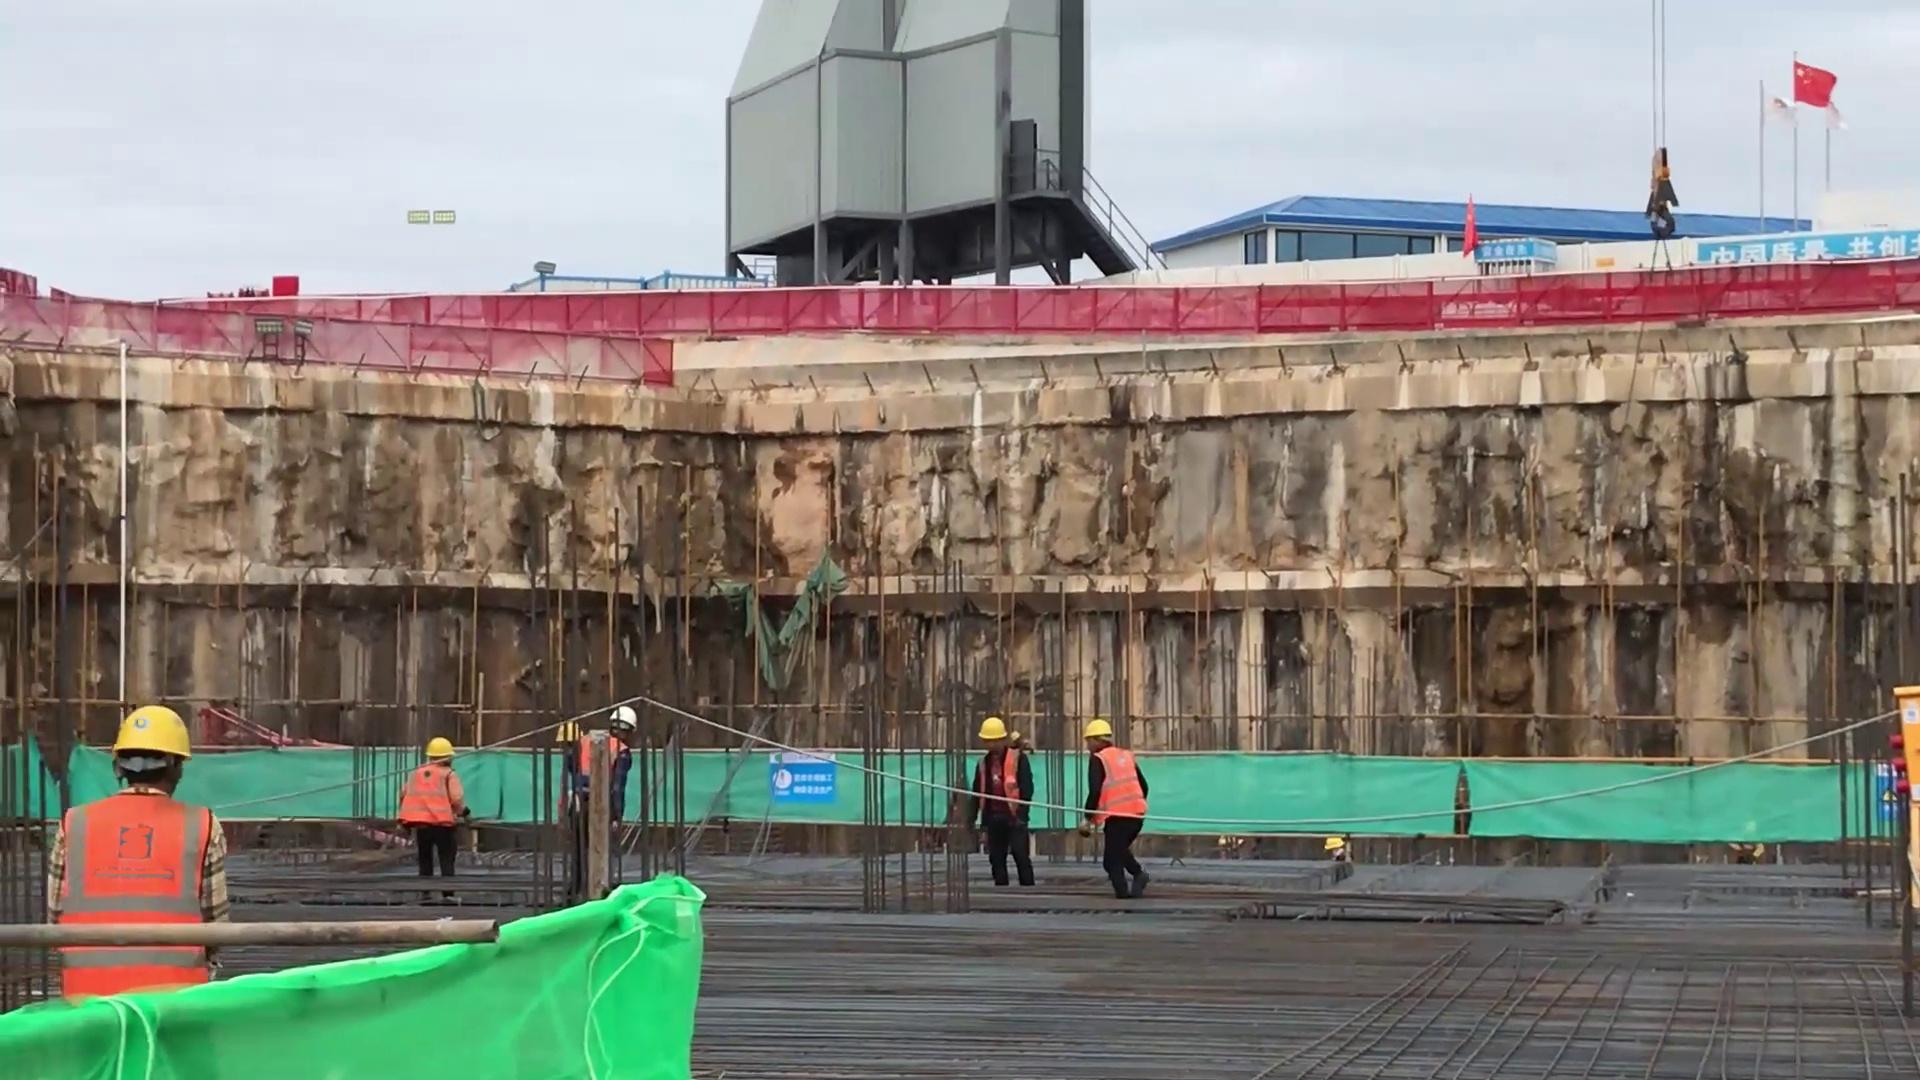fence: (4, 258, 1382, 398), (1382, 252, 1920, 337)
helmet: (105, 700, 206, 769), (1079, 715, 1123, 747), (962, 716, 1009, 742), (606, 706, 642, 733), (554, 718, 581, 749), (424, 737, 456, 760)
hook: (1636, 145, 1713, 246)
person: (46, 697, 232, 1001), (947, 708, 1050, 889), (1077, 718, 1166, 900), (389, 731, 475, 908)
slogan: (1691, 223, 1910, 278), (742, 729, 856, 803), (1466, 235, 1549, 269)
vest: (42, 787, 219, 996), (1082, 745, 1154, 831), (395, 762, 472, 839), (968, 745, 1032, 817)
